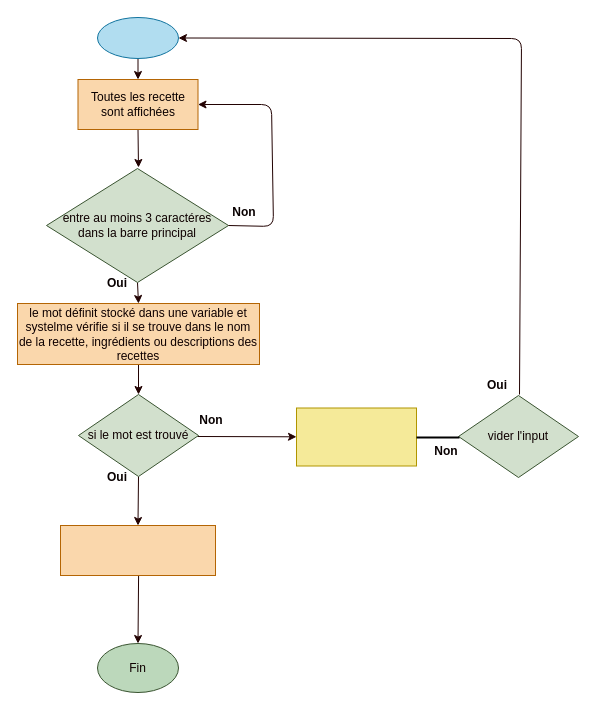
Some shapes in this 596 by 710 pixel diagram are drawn without their labels. Here are the shapes that lost their labels. From the top down, the centre of each, then its label:
point 137,37: Début
point 356,436: Message d'erreur "Aucune recette ne contient 'xxx'
point 138,550: l'intérface est actualisée selon la recherche ainsi que les listes déroulantes
